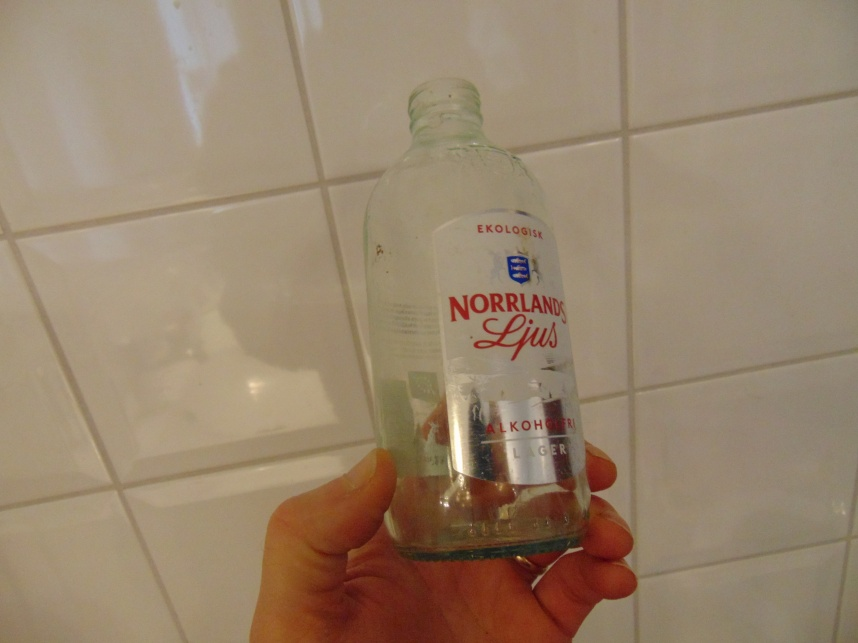glass_bottle: (363, 77, 596, 560)
